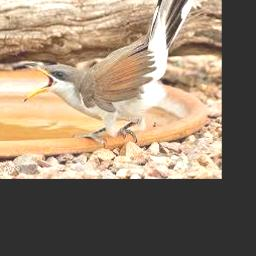Cuckoo: (23, 0, 201, 143)
